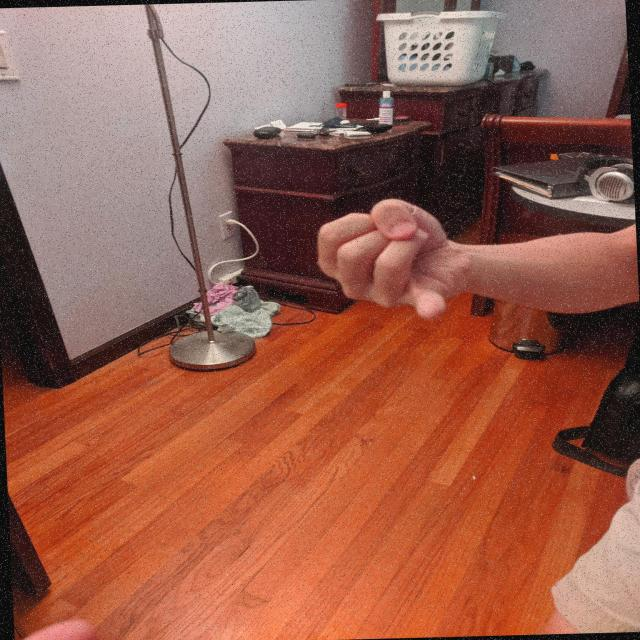J: (307, 193, 478, 326)
